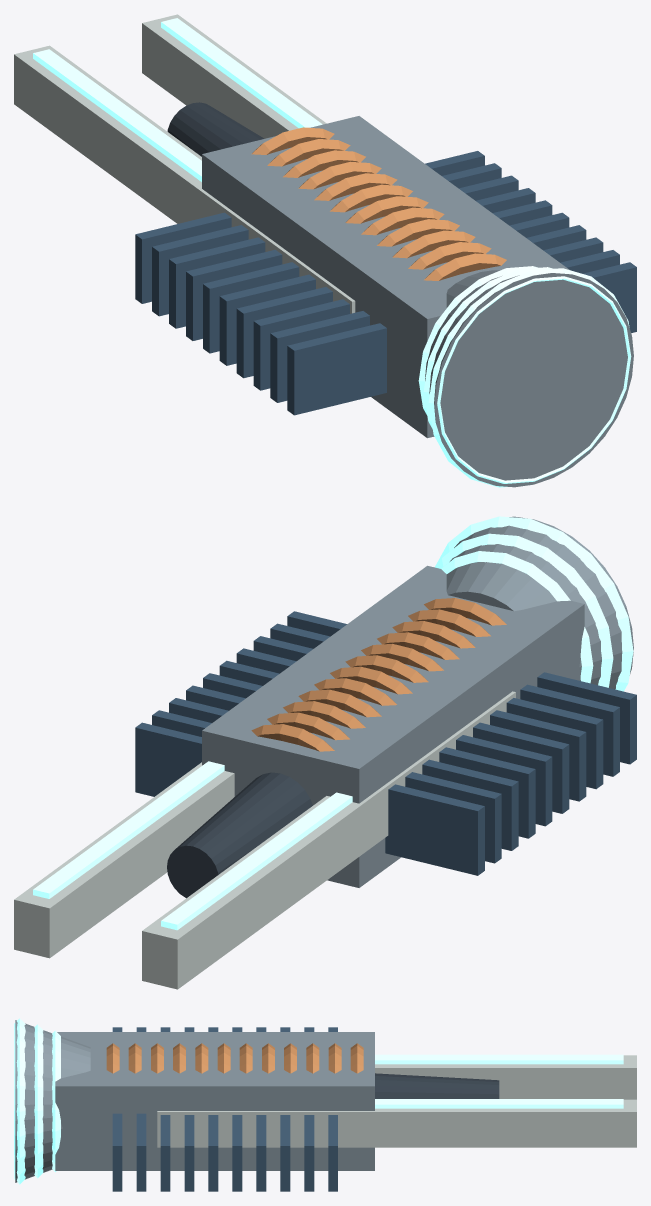
File: RailgunMedium.glb
The picture shows the model from 3 angles, top to bottom: view 1: azimuth 30°, elevation 25°; view 2: azimuth 150°, elevation 25°; view 3: azimuth 270°, elevation 25°; orthographic projection. The views are drawn at different scales.
Visible parts, largest first — view 1: CarriageAndRails, WarpEngine; view 2: CarriageAndRails, WarpEngine; view 3: CarriageAndRails, WarpEngine.
Boxes of the visible parts, left/top/right/bottom form: CarriageAndRails: left=14, top=14, right=636, bottom=438; WarpEngine: left=418, top=266, right=633, bottom=487; CarriageAndRails: left=14, top=565, right=636, bottom=989; WarpEngine: left=435, top=516, right=633, bottom=691; CarriageAndRails: left=55, top=1027, right=636, bottom=1191; WarpEngine: left=14, top=1018, right=90, bottom=1184.
Bounding box in the file's own units: 3.16 × 1.89 × 7.01.
